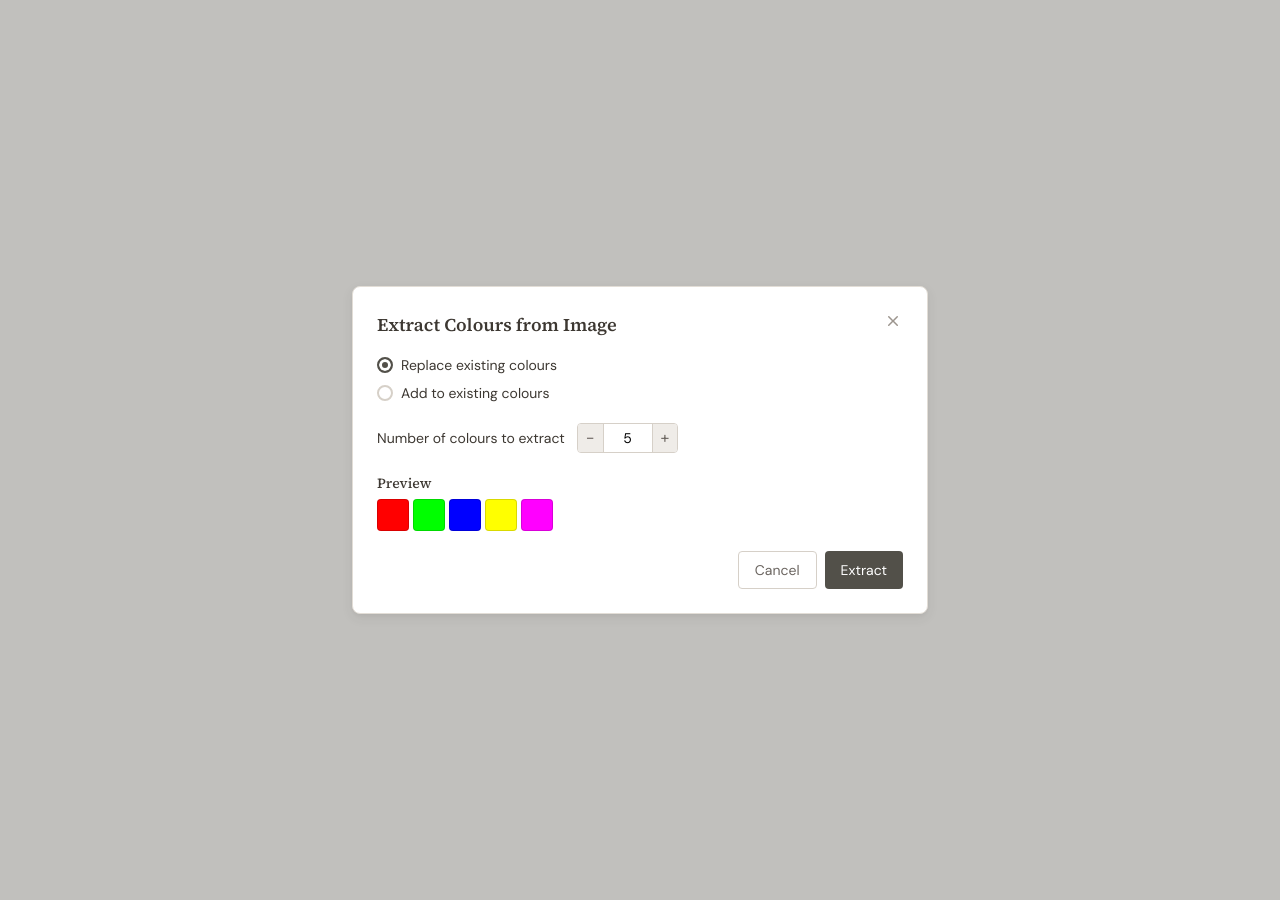
Test case: ExtractColoursModal › increments count when plus button is clicked
Click the button named "Increase count".
click(664, 438)  # box [652,424,677,452]
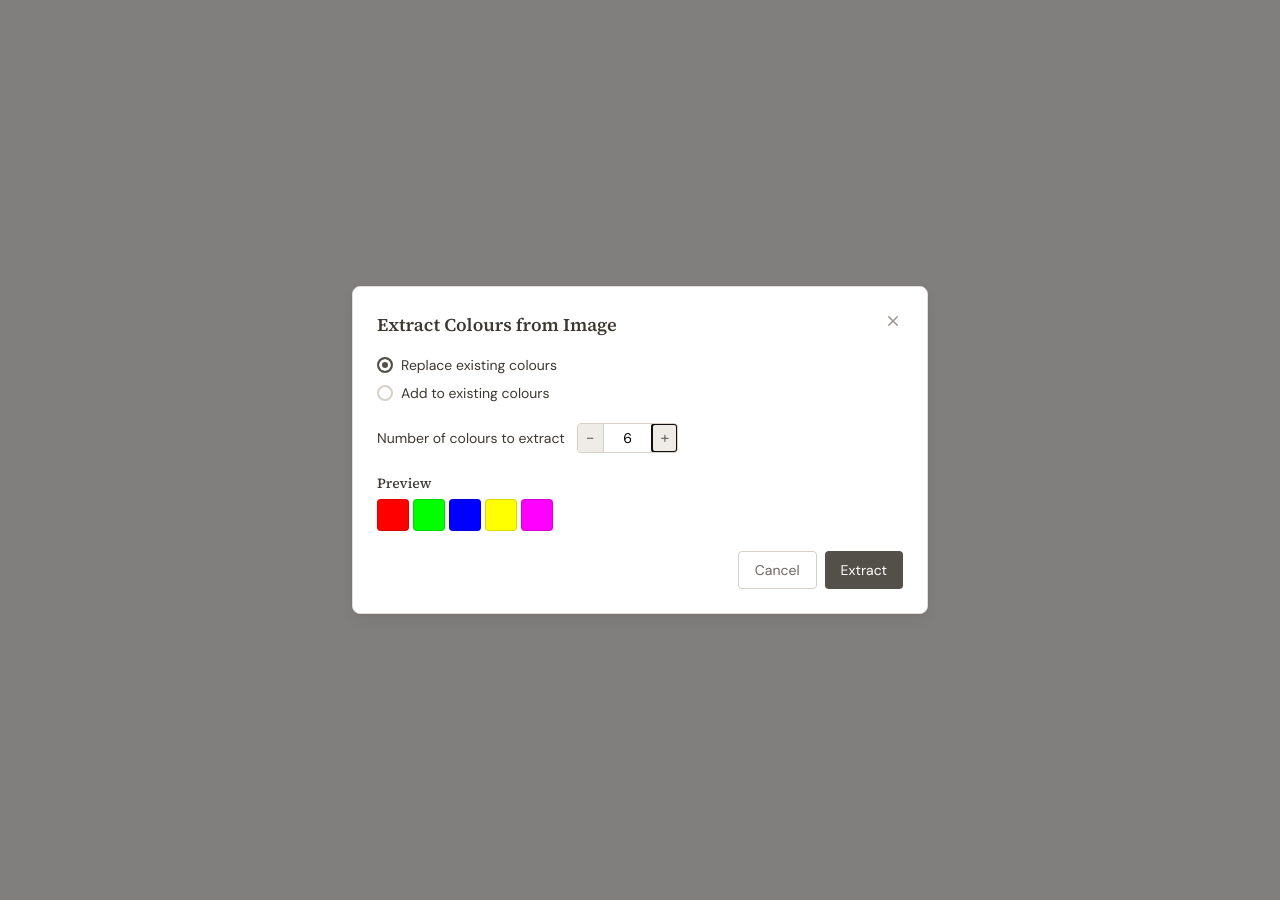
Check: the number field named "Colour count" holds "6", box [604,424,652,452]
